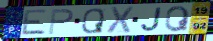E: (20, 8, 49, 36)
J: (140, 6, 163, 32)
P: (47, 8, 74, 35)
Q: (164, 5, 191, 33), (81, 7, 105, 35)
X: (105, 6, 135, 35)
